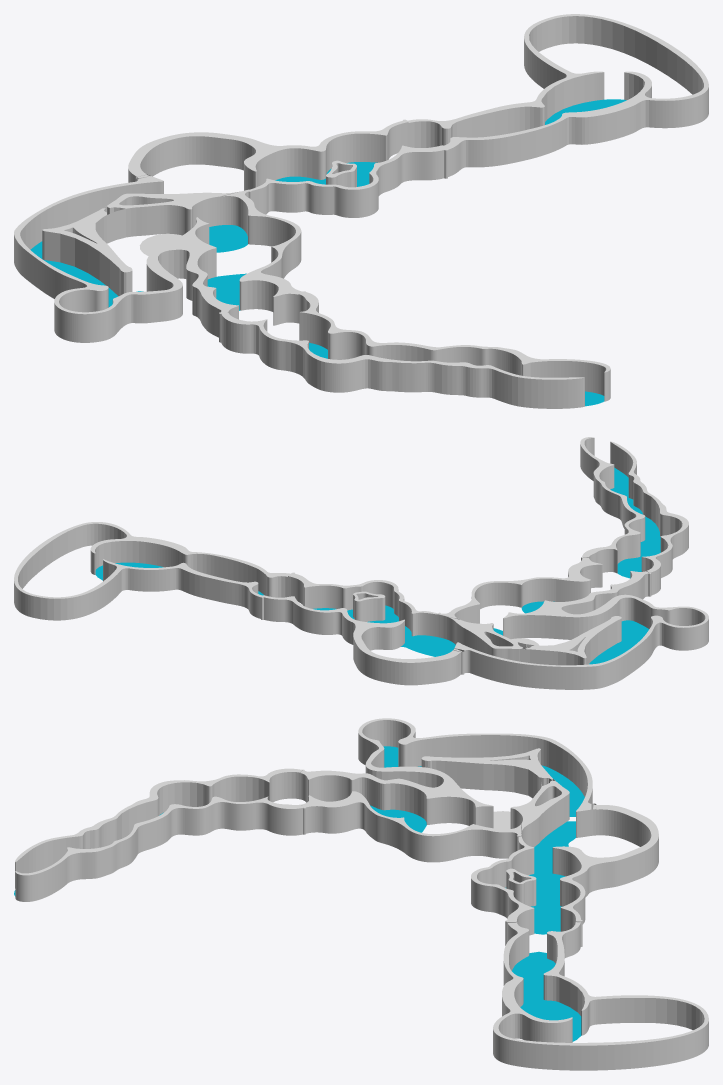
Rendered from Intimacy.fbx.
The picture shows the model from 3 angles, top to bottom: view 1: azimuth 30°, elevation 25°; view 2: azimuth 150°, elevation 25°; view 3: azimuth 270°, elevation 25°; orthographic projection. The views are drawn at different scales.
Parts seen in each view (by area): view 1: Mainland Walls 2, Mainland Walls 4, Mainland Walls 1, Mainland Walls 3, Mainland Floors 3, Mainland Floors 2, Mainland Floors 4; view 2: Mainland Walls 2, Mainland Walls 4, Mainland Walls 3, Mainland Walls 1, Mainland Floors 1, Mainland Floors 3, Mainland Floors 2; view 3: Mainland Walls 2, Mainland Walls 1, Mainland Walls 4, Mainland Walls 3, Mainland Floors 3, Mainland Floors 4, Mainland Floors 2.
Part boxes in pixels (left/top/right/bottom): Mainland Walls 2: left=14, top=174, right=305, bottom=342; Mainland Walls 4: left=407, top=14, right=708, bottom=176; Mainland Walls 1: left=221, top=291, right=610, bottom=408; Mainland Walls 3: left=128, top=119, right=447, bottom=217; Mainland Floors 3: left=209, top=162, right=377, bottom=252; Mainland Floors 2: left=30, top=241, right=246, bottom=310; Mainland Floors 4: left=545, top=99, right=626, bottom=124; Mainland Walls 2: left=437, top=557, right=708, bottom=689; Mainland Walls 4: left=14, top=522, right=289, bottom=620; Mainland Walls 3: left=261, top=572, right=461, bottom=685; Mainland Walls 1: left=580, top=437, right=688, bottom=595; Mainland Floors 1: left=610, top=467, right=660, bottom=578; Mainland Floors 3: left=313, top=605, right=502, bottom=656; Mainland Floors 2: left=521, top=601, right=648, bottom=664; Mainland Walls 2: left=298, top=718, right=596, bottom=862; Mainland Walls 1: left=15, top=768, right=303, bottom=901; Mainland Walls 4: left=493, top=922, right=708, bottom=1070; Mainland Walls 3: left=471, top=805, right=658, bottom=946; Mainland Floors 3: left=505, top=821, right=575, bottom=934; Mainland Floors 4: left=512, top=951, right=581, bottom=1041; Mainland Floors 2: left=370, top=746, right=584, bottom=832.
Bounding box in the file's own units: 1140 × 43.51 × 1027.
